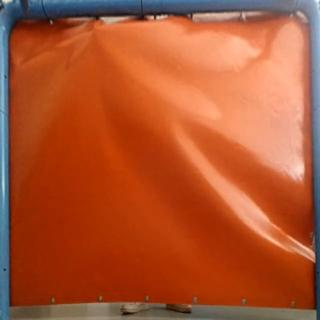Hit-hRxx: (89, 22, 103, 34)
